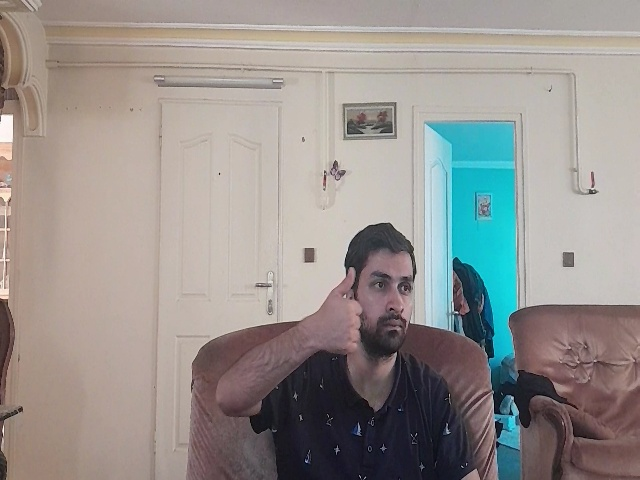ThumbsUp: (303, 266, 363, 357)
